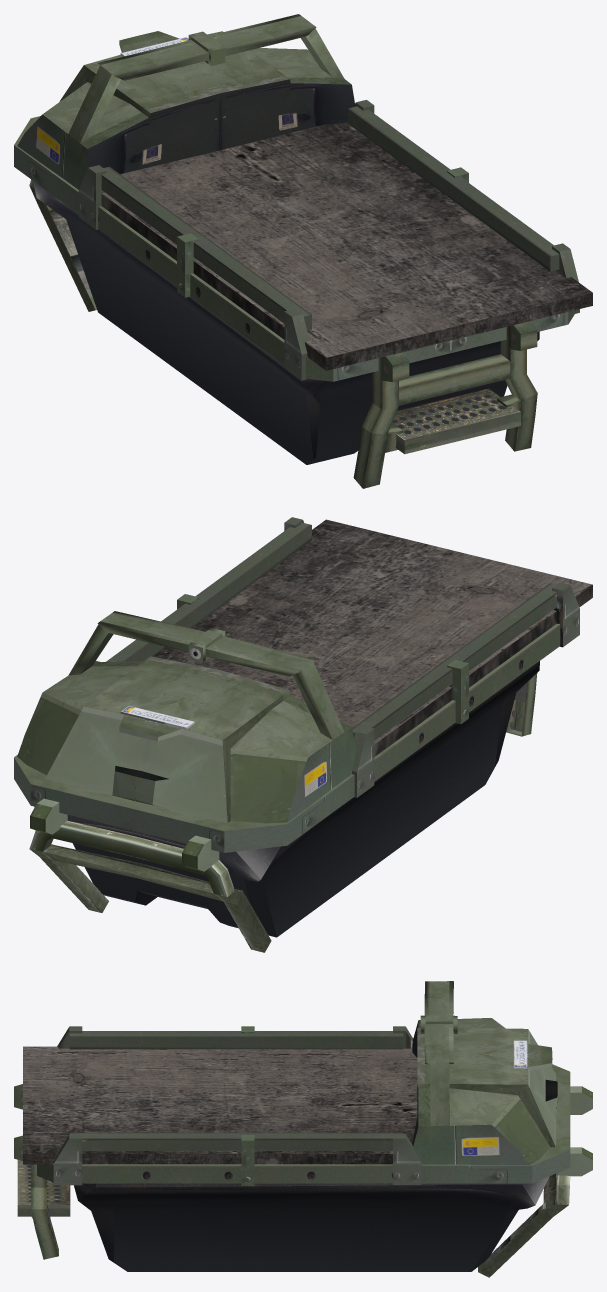
3 views of the same model, one above another, from view 1: azimuth 30°, elevation 25°; view 2: azimuth 150°, elevation 25°; view 3: azimuth 270°, elevation 25° (orthographic). The views are drawn at different scales.
Visible parts, largest first — view 1: Chassis; view 2: Chassis; view 3: Chassis.
Part boxes in pixels (x1,y1,x2,y2): Chassis: (14, 14, 592, 488); Chassis: (14, 517, 592, 952); Chassis: (14, 981, 592, 1277).
Size of the model in its own units: 165 by 150 by 352.
